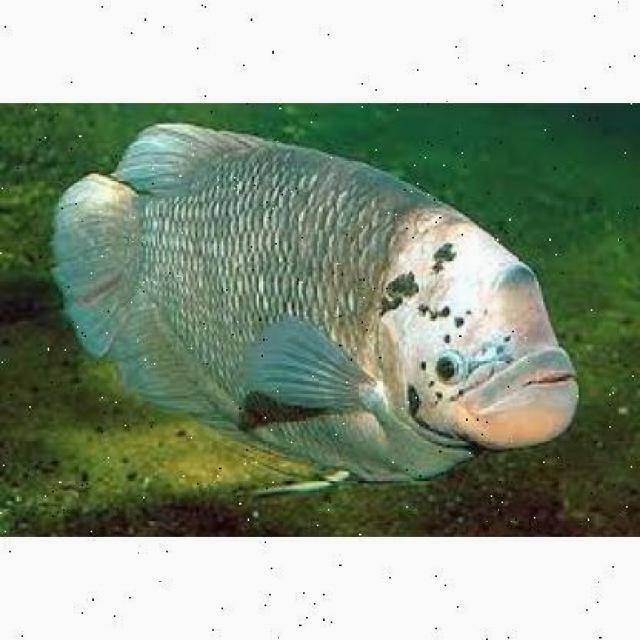gurame: (57, 120, 577, 480)
